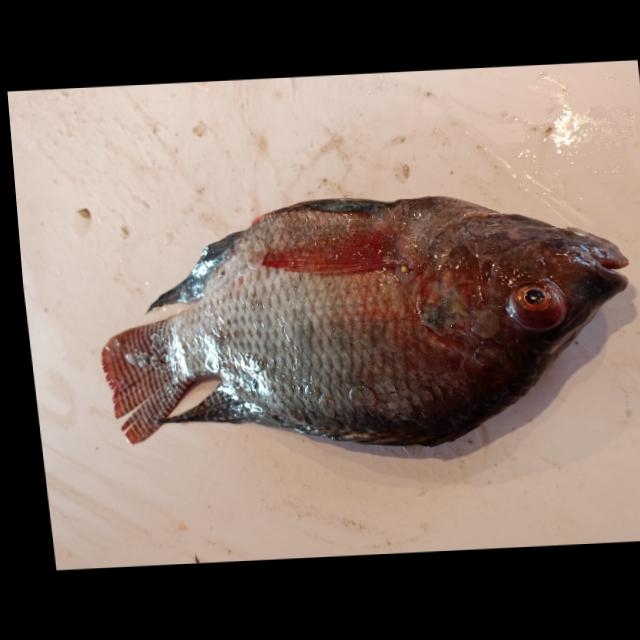Tilapia: (82, 185, 640, 466)
